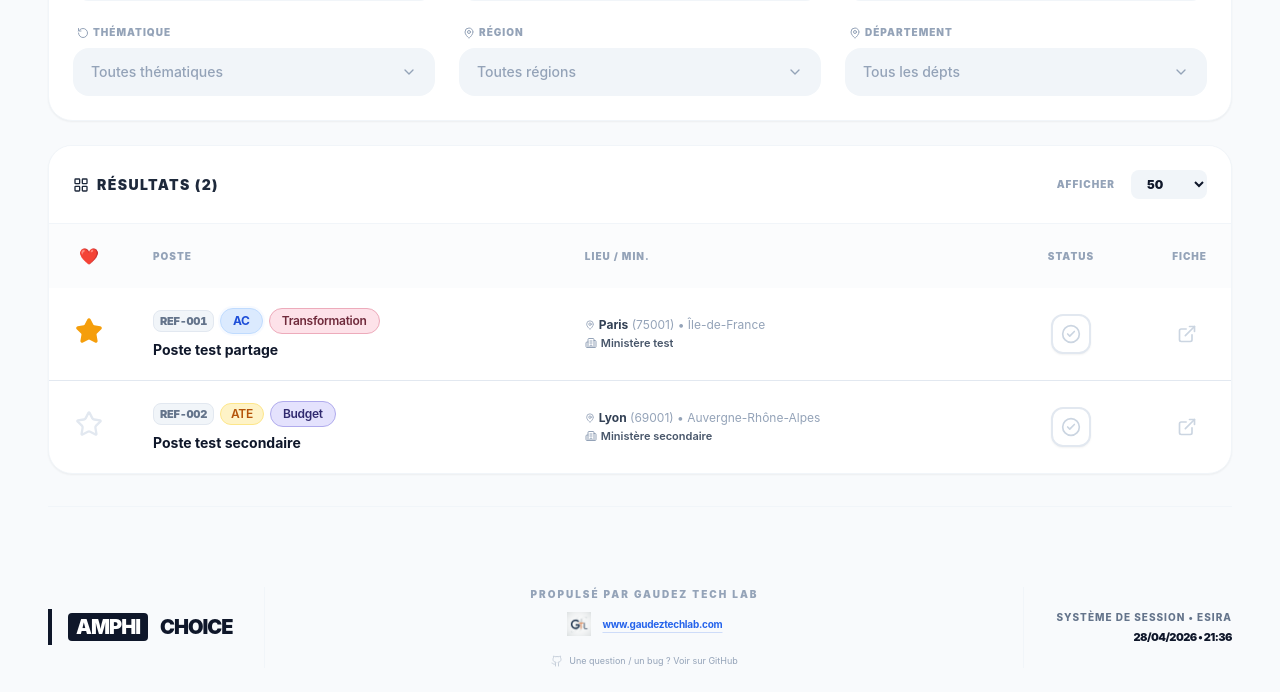
Test: App shared notes › keeps only one row expanded at a time while still allowing collapse on re-click
The width and height of the screenshot is (1280, 692).
(page scrolled)
Click the row with test id "desktop-post-row-REF-001-desktop" at (640, 334), box [49,288,1231,380]
(page scrolled)
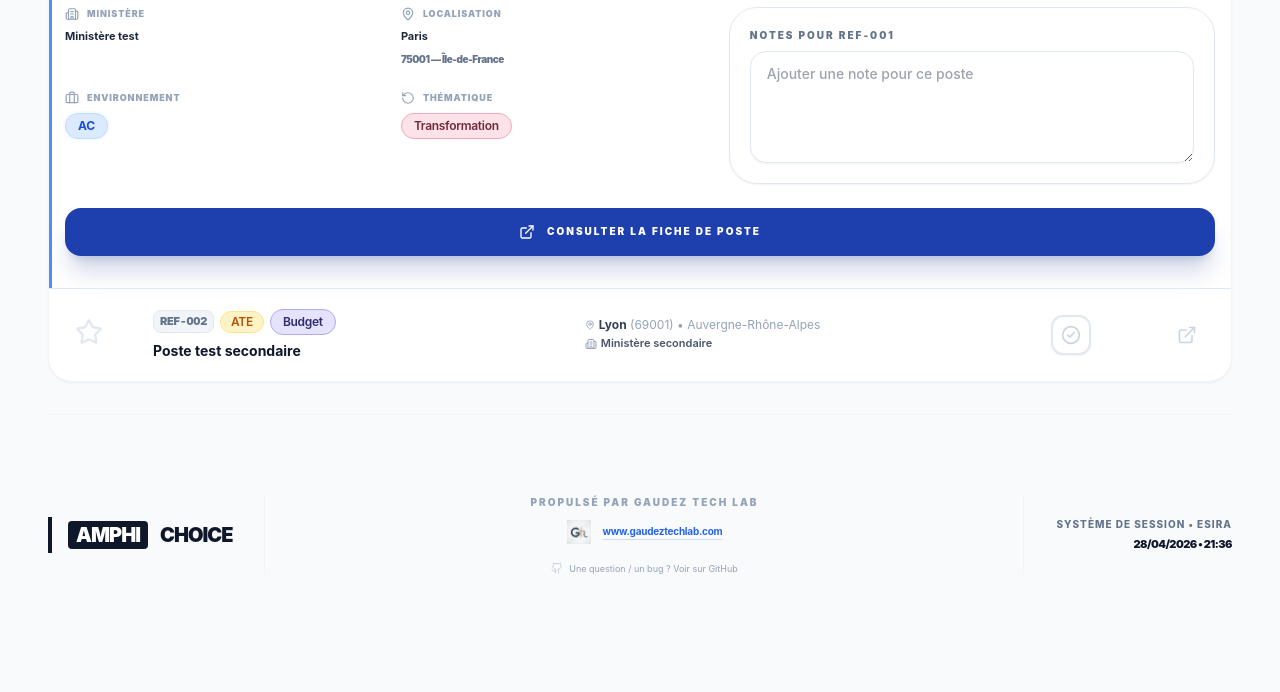
Result: the text box labelled "Notes pour REF-001" is shown at [750,50,1194,162]
Click the row with test id "desktop-post-row-REF-002-desktop" at (640, 334), box [49,288,1231,380]
(page scrolled)
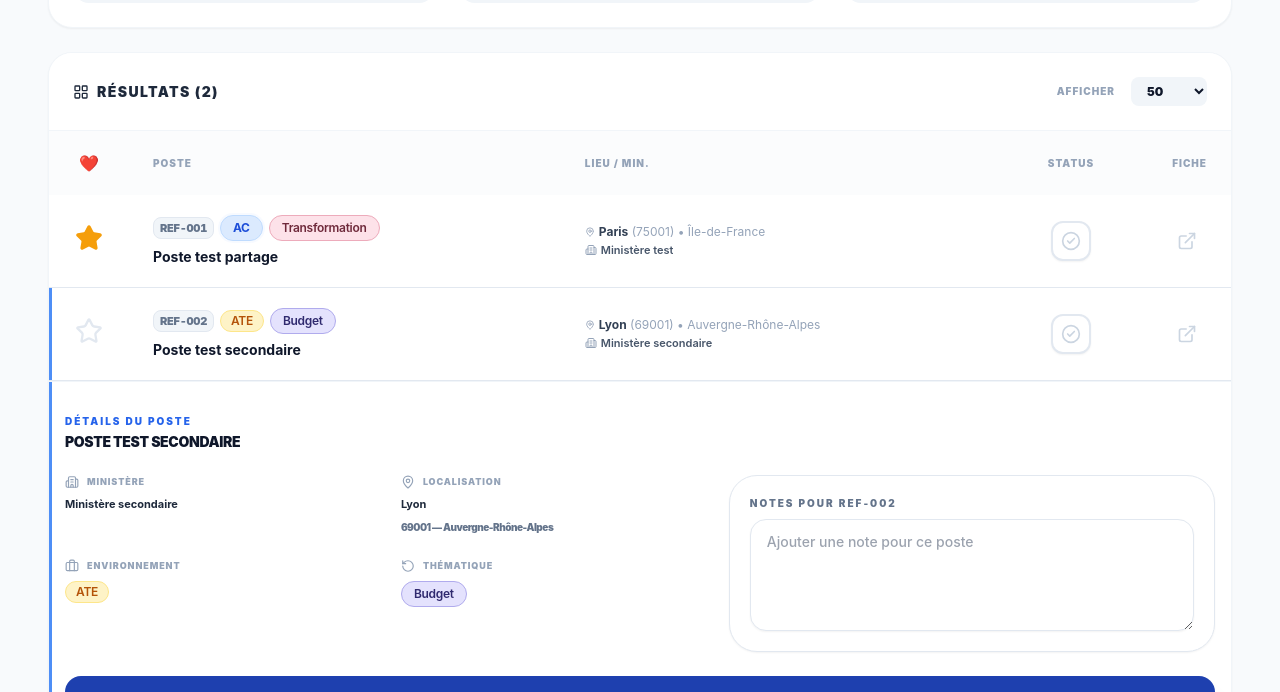
Result: the text box labelled "Notes pour REF-002" is shown at [750,518,1194,630]
Result: the text labelled "Notes pour REF-001" is gone
Click the row with test id "desktop-post-row-REF-002-desktop" at (640, 334), box [49,288,1231,380]
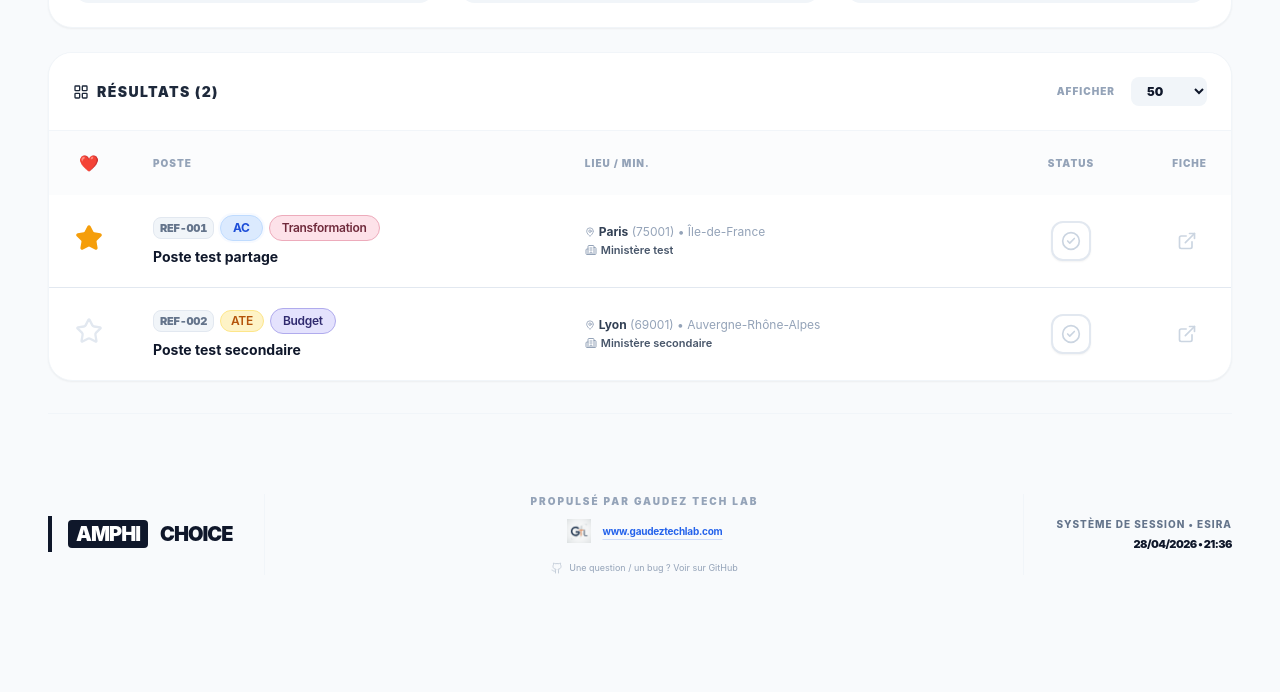
Result: no elements with test id "job-detail-desktop" are shown
